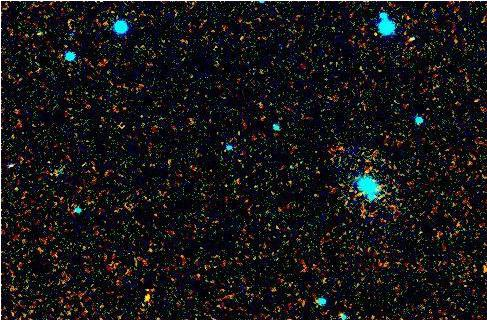star: (132, 281, 162, 311)
